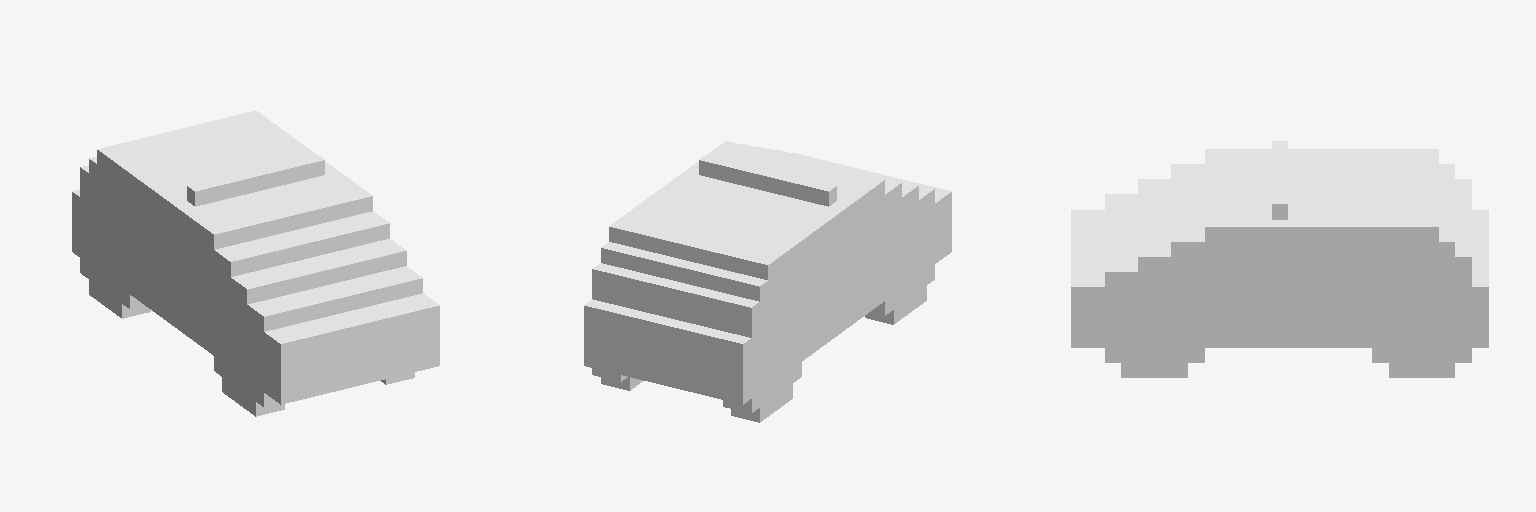
Rendered from police_white.obj.
The picture shows the model from 3 angles: view 1: azimuth 30°, elevation 25°; view 2: azimuth 150°, elevation 25°; view 3: azimuth 270°, elevation 25°; orthographic projection.
Visible parts, largest first — view 1: police_white; view 2: police_white; view 3: police_white.
Boxes of the visible parts, <box> form: police_white: <box>72,111,439,416</box>; police_white: <box>584,141,951,422</box>; police_white: <box>1071,141,1488,377</box>.
Bounding box in the file's own units: 11 × 11 × 25.